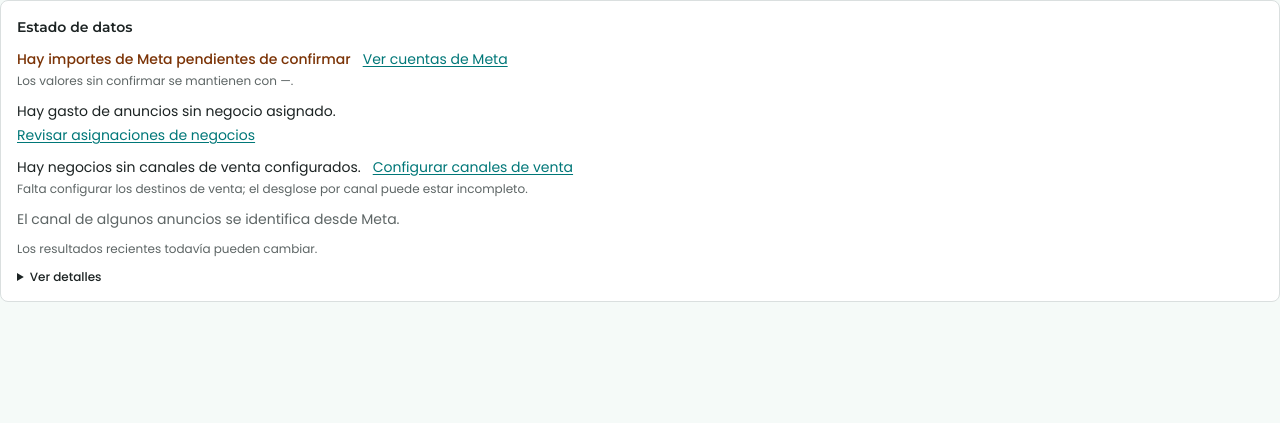
it: groups simultaneous Meta, assignment and provisional notices without hiding the pending state
Expected: the text "Hay importes de Meta pendientes de confirmar" is shown, [17,49,351,69]
Expected: the text "Hay gasto de anuncios sin negocio asignado." is shown, [17,101,336,121]
Click the heading "Ver detalles". click: click(66, 276)
box: [30,268,102,285]
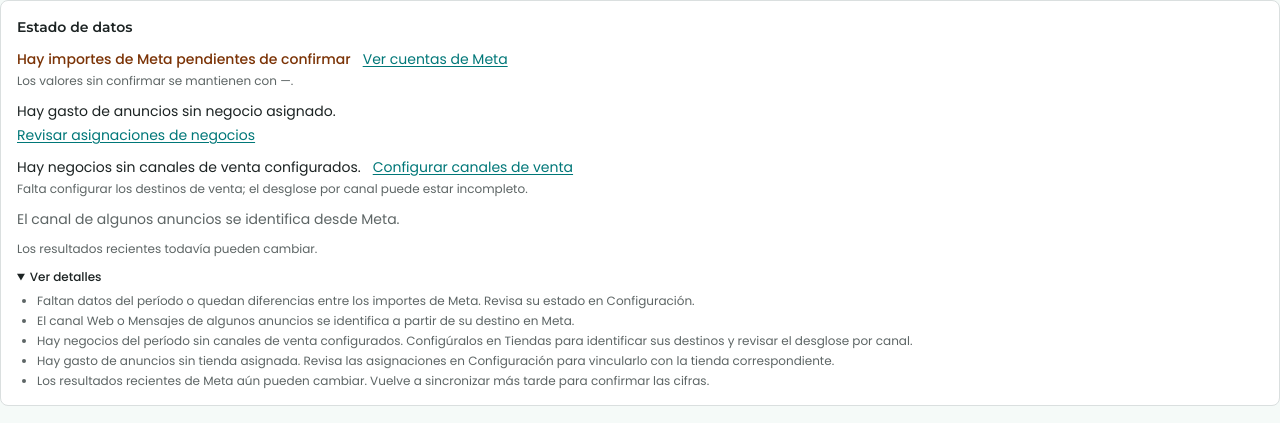
Expected: the list item "Faltan datos del período o quedan diferencias entre los importes de Meta. Revisa su estado en Configuración." is shown, [37,292,695,309]
Expected: the list item "Hay gasto de anuncios sin tienda asignada" is shown, [37,352,834,369]
Expected: the list item "Hay negocios del período sin canales de venta configurados" is shown, [37,332,912,349]
